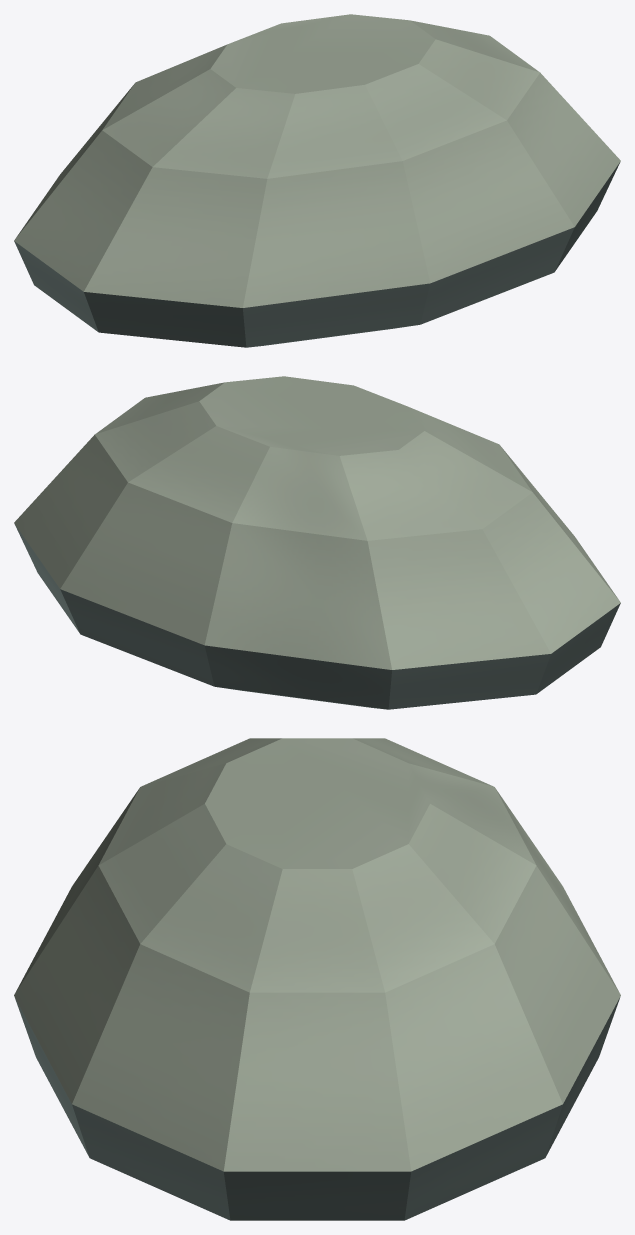
Rendered from shore_rock.glb.
The picture shows the model from 3 angles, top to bottom: view 1: azimuth 30°, elevation 25°; view 2: azimuth 150°, elevation 25°; view 3: azimuth 270°, elevation 25°; orthographic projection. The views are drawn at different scales.
Parts seen in each view (by area): view 1: shore_rock; view 2: shore_rock; view 3: shore_rock.
Part boxes in pixels (x1,y1,x2,y2): shore_rock: (14, 14, 620, 347); shore_rock: (14, 376, 620, 709); shore_rock: (14, 738, 620, 1220).
Size of the model in its own units: 1.2 by 0.46 by 0.873.
1 material, 1 textured.
